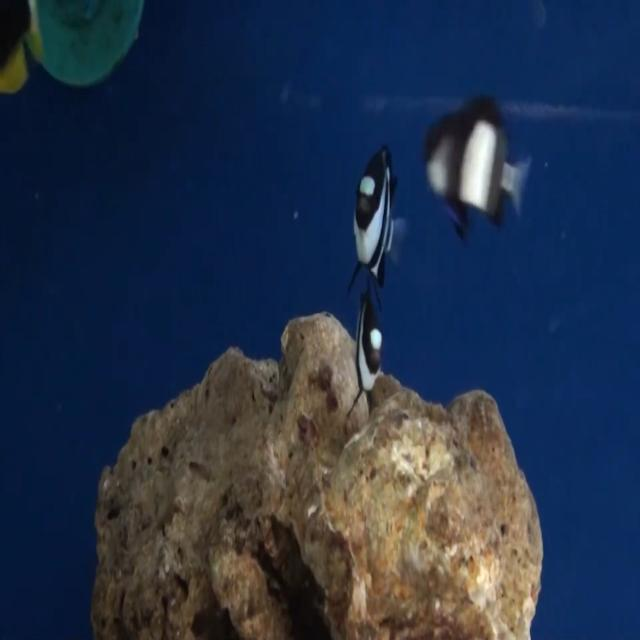ThreeStripedDamselfish: (426, 95, 531, 239)
